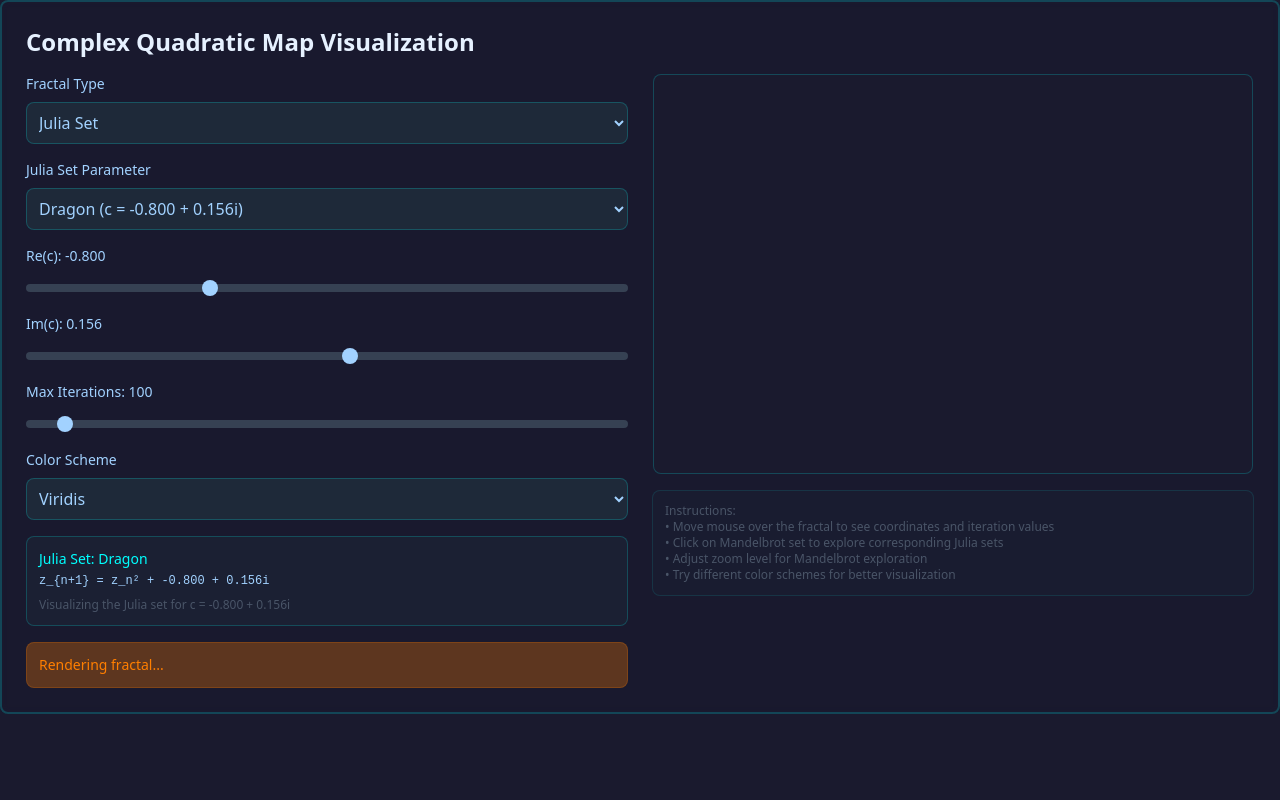
Scenario: ComplexMapVisualization ParamSlider wiring › info panel label is Custom after a slider drag and never mentions a click
Set the slider below "Re(c): -0.800" to "-0.3": (283, 288) [26,284,628,292]
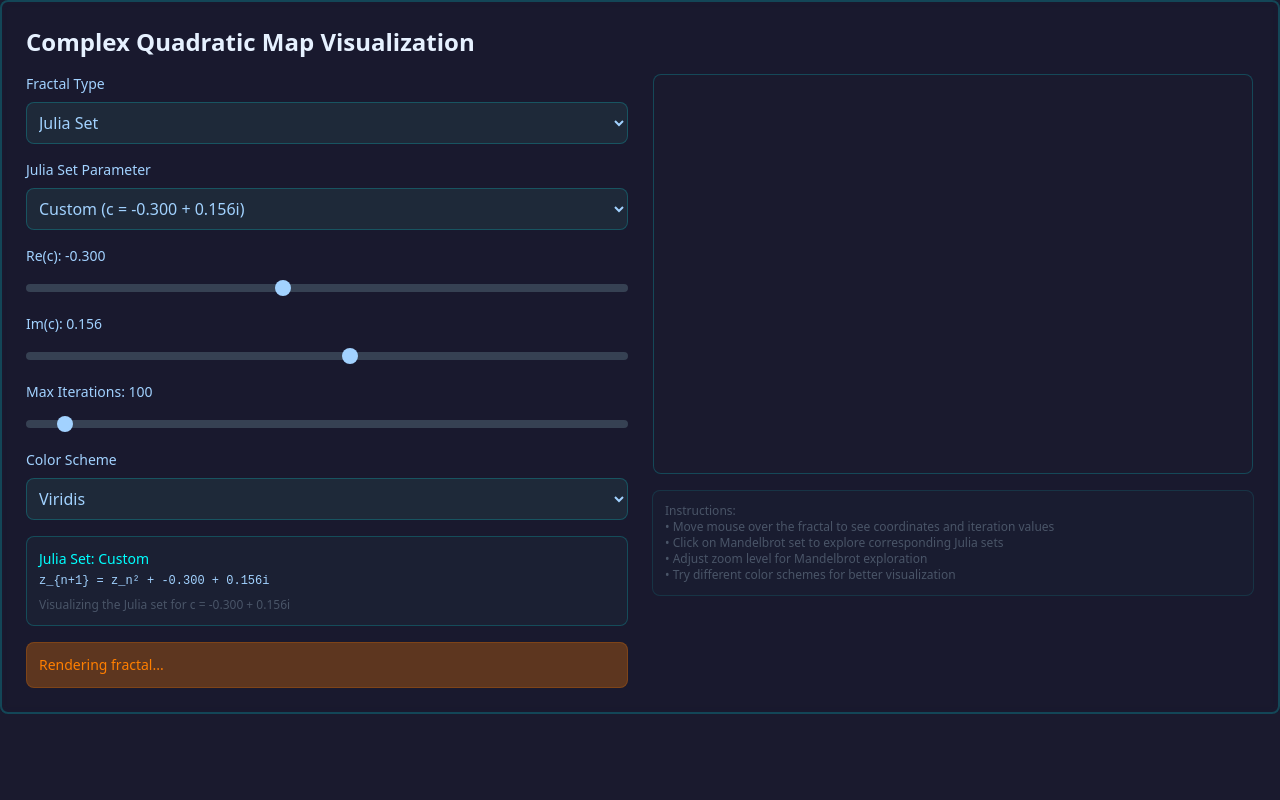
Check: the text "Julia Set: " does not show "click"
Check: the text "Julia Set: Custom" is shown, box [39,549,149,568]
